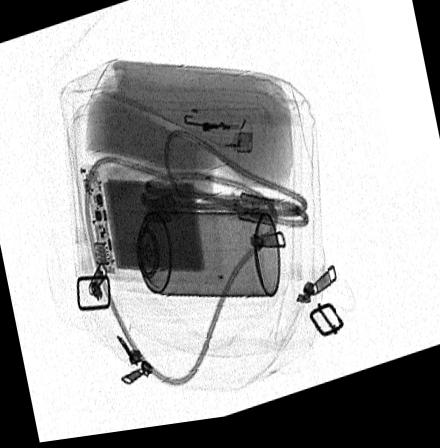Lighter: (165, 116, 253, 159)
Powerbank: (76, 169, 222, 293), (105, 214, 280, 305)
